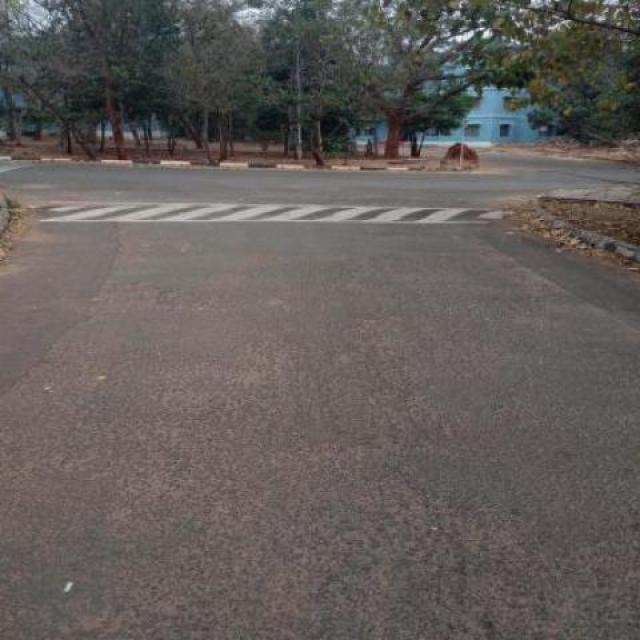Speed Bump: (18, 203, 522, 224)
